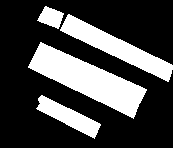parkingspot: (60, 14, 173, 81), (28, 54, 139, 118), (34, 42, 146, 103), (36, 95, 100, 138), (37, 6, 63, 28)
